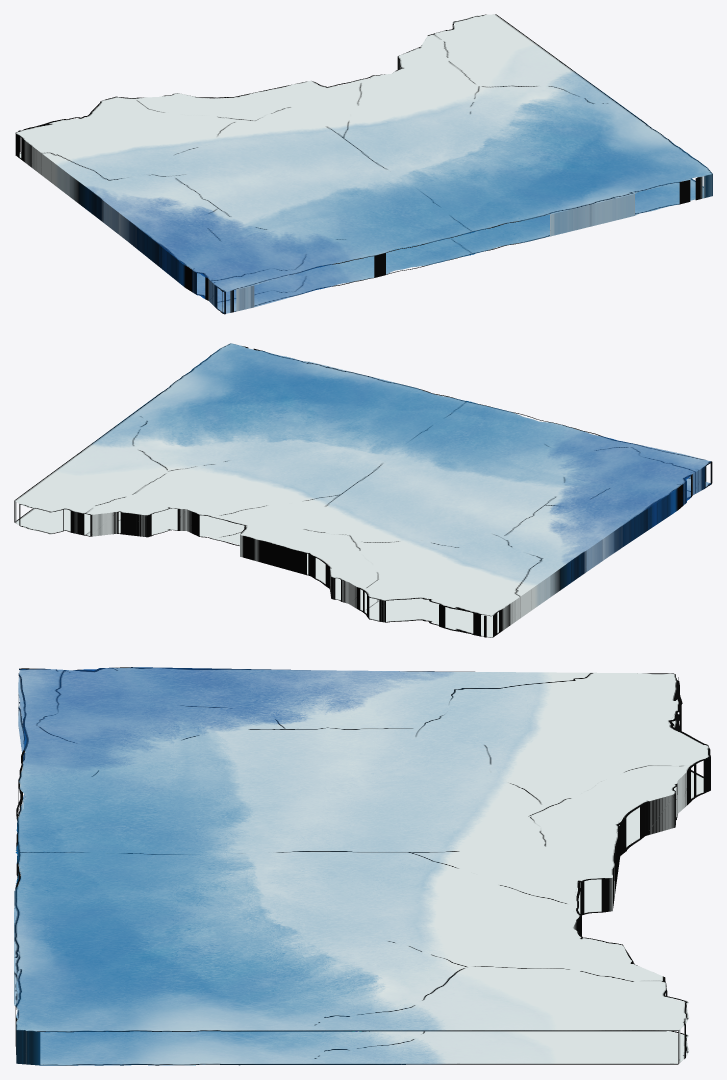
Rendered from wall_ruined.fbx.
3 renders of one model, top to bottom at view 1: azimuth 30°, elevation 25°; view 2: azimuth 150°, elevation 25°; view 3: azimuth 270°, elevation 25°, orthographic. The views are drawn at different scales.
Parts seen in each view (by area): view 1: Untitled_Artwork 17; view 2: Untitled_Artwork 17; view 3: Untitled_Artwork 17.
Boxes of the visible parts, x1,y1,x2,y2 form: Untitled_Artwork 17: (15,14,712,314); Untitled_Artwork 17: (14,343,712,637); Untitled_Artwork 17: (14,667,710,1065).
Size of the model in its own units: 87.76 by 3.74 by 70.97.
